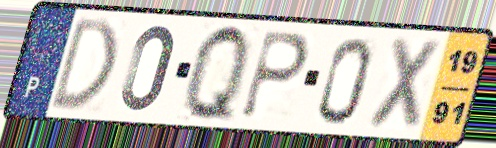0: (315, 34, 378, 127), (117, 22, 177, 115)
D: (46, 14, 120, 113)
P: (236, 28, 313, 123)
Q: (182, 20, 252, 128)
X: (362, 34, 447, 134)
